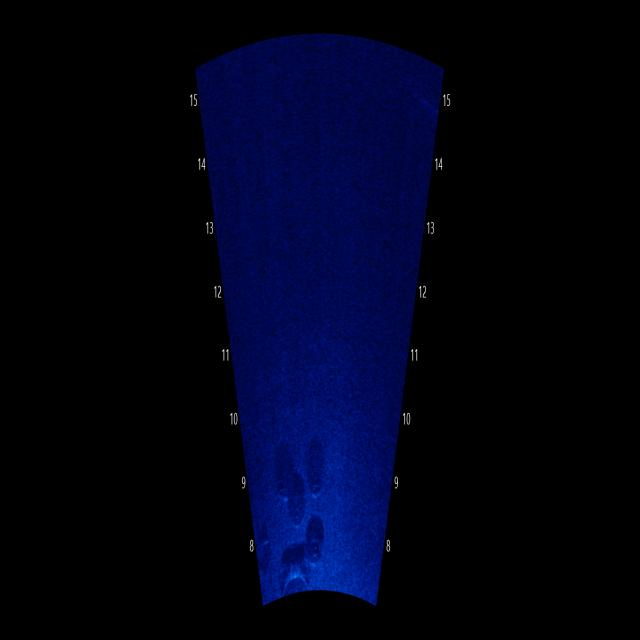circle: (268, 452, 300, 507), (285, 466, 311, 533), (306, 442, 332, 504), (304, 507, 332, 561)
